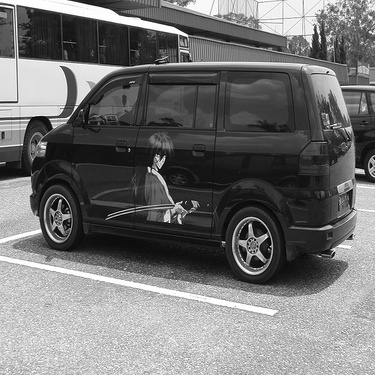car: (337, 83, 373, 181)
